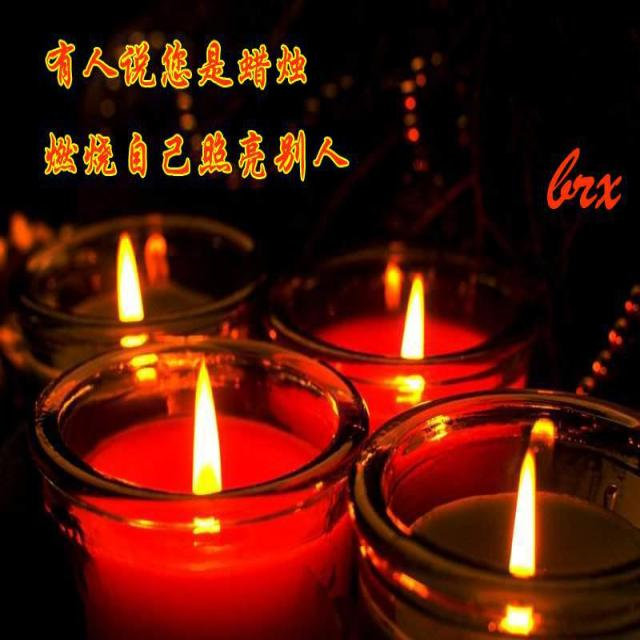fire: (174, 361, 228, 524), (507, 443, 551, 609), (108, 226, 152, 351), (400, 276, 430, 403)
